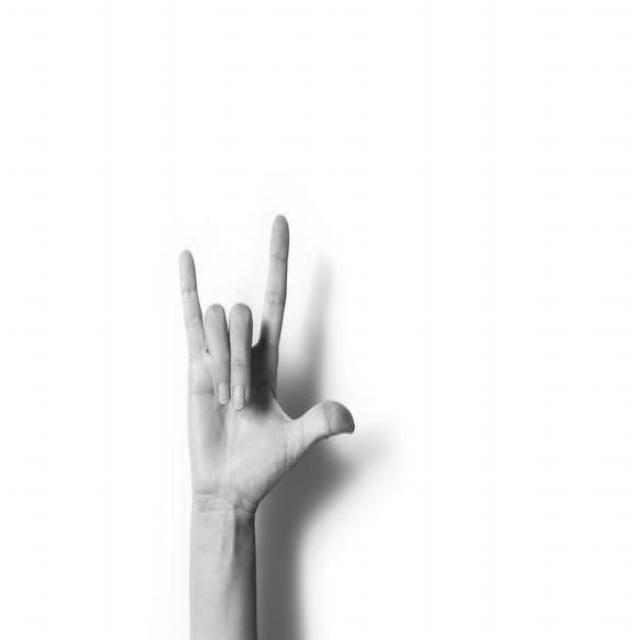i love you: (172, 205, 359, 558)
